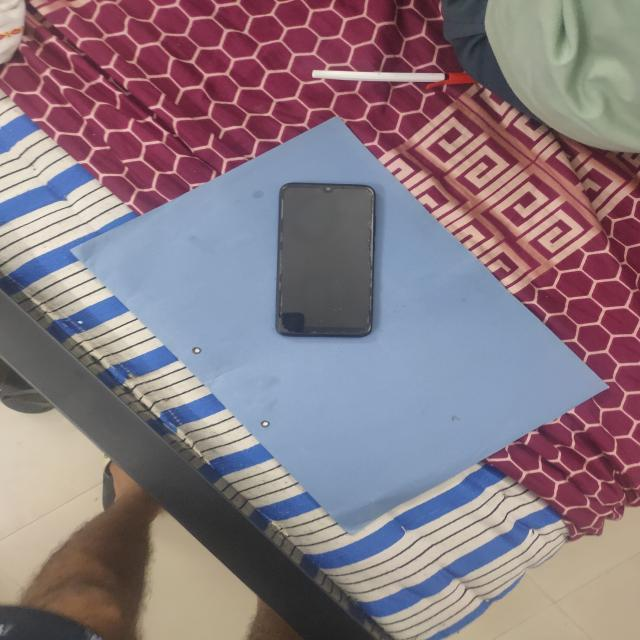Phone: (272, 179, 382, 343)
